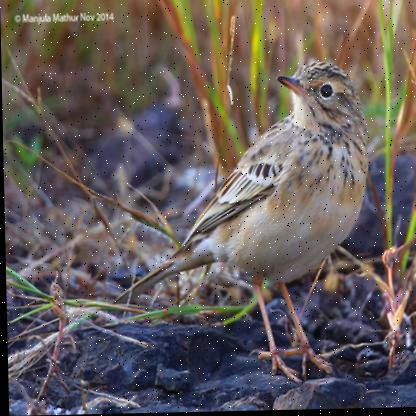Burung: (114, 62, 371, 397)
